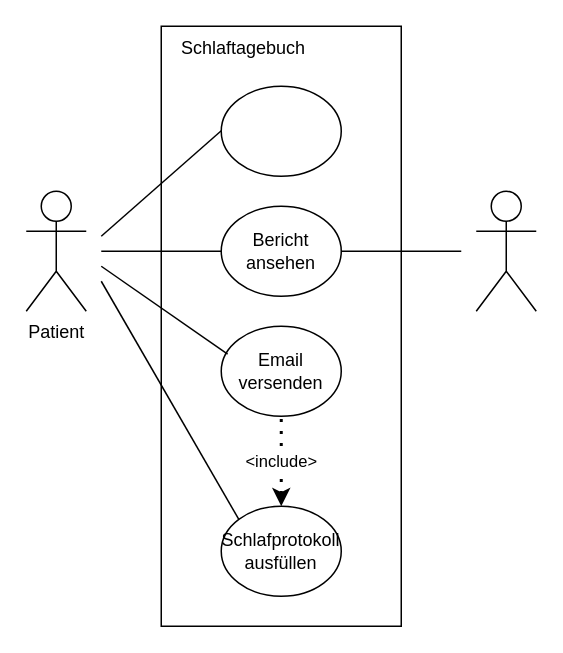
The diagram is 563 pixels wide and 653 high, and some of its shapes have lost their labels. The shapes that lost their labels are listed below. From the top down, each one's box as (x1, y1, x2, y2) in pixels, then its label:
(220, 85, 341, 176): Smartwatch koppeln
(475, 190, 536, 311): Arzt*in
